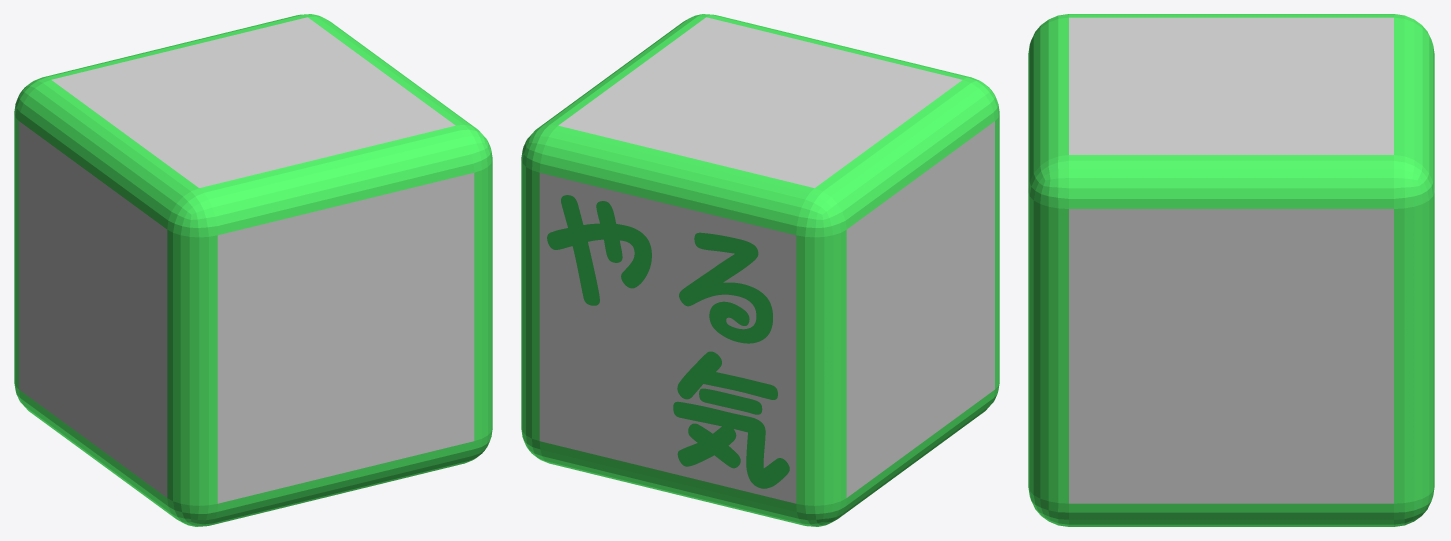
File: passion.fbx
3 renders of one model, left to right at view 1: azimuth 30°, elevation 25°; view 2: azimuth 150°, elevation 25°; view 3: azimuth 270°, elevation 25°, orthographic. The views are drawn at different scales.
Visible parts, largest first — view 1: Cube; view 2: Cube, テキスト; view 3: Cube.
Boxes of the visible parts, left/top/right/bottom form: Cube: left=14, top=14, right=492, bottom=526; Cube: left=521, top=14, right=999, bottom=526; テキスト: left=547, top=195, right=789, bottom=488; Cube: left=1028, top=14, right=1434, bottom=526.
Bounding box in the file's own units: 200 × 200 × 201.
